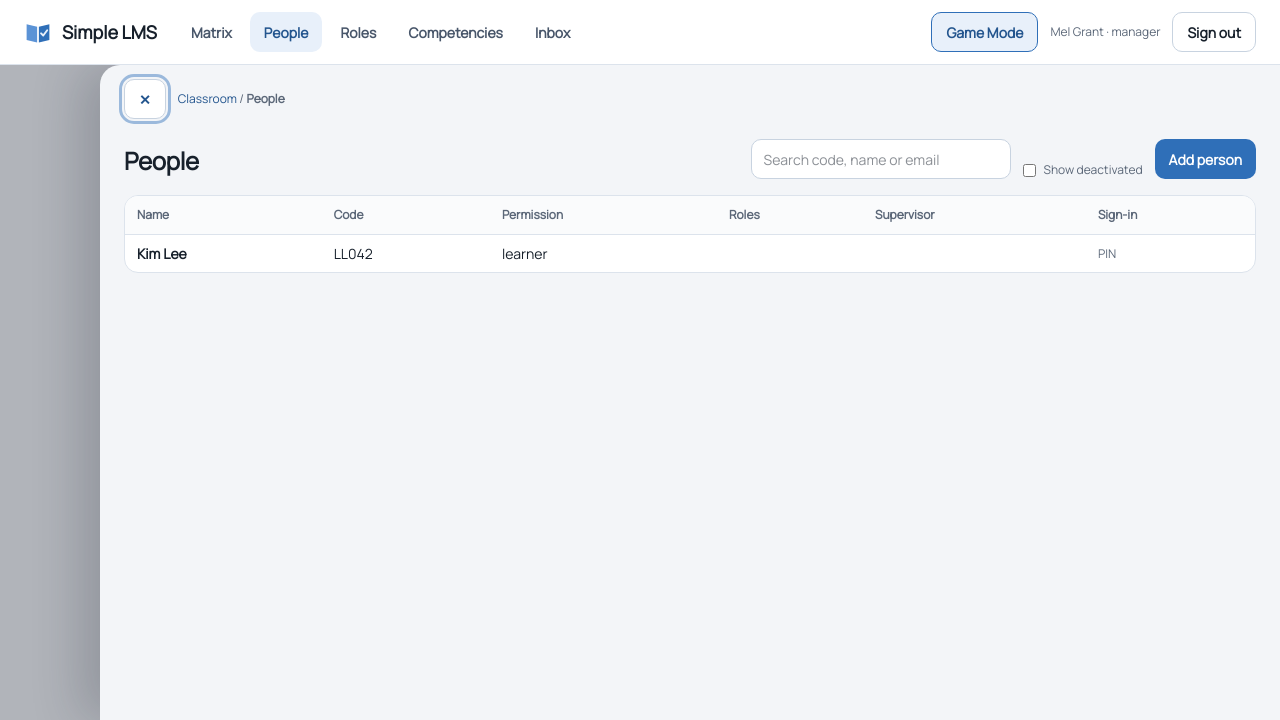
Test case: printing › prints a person's skills card
Click the button "Kim Lee" at (162, 254), box [137,243,187,264]
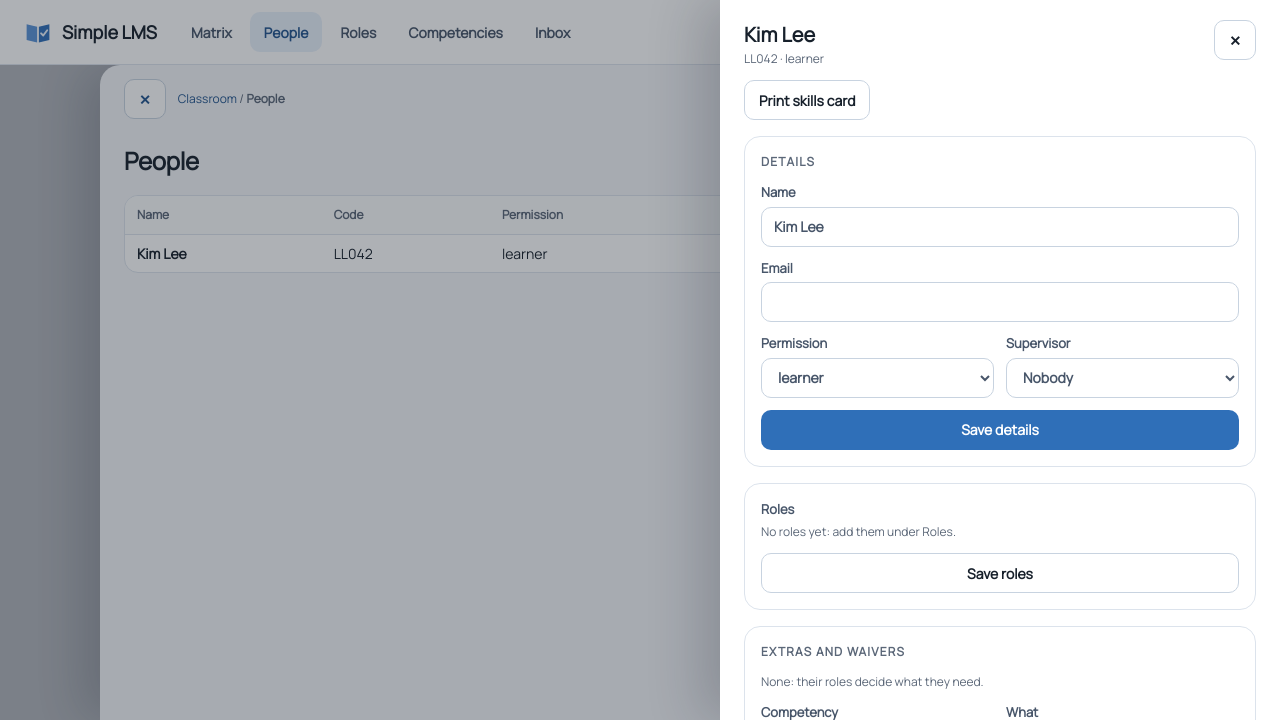
Click the button "Print skills card" at (807, 100), box [744,80,870,120]
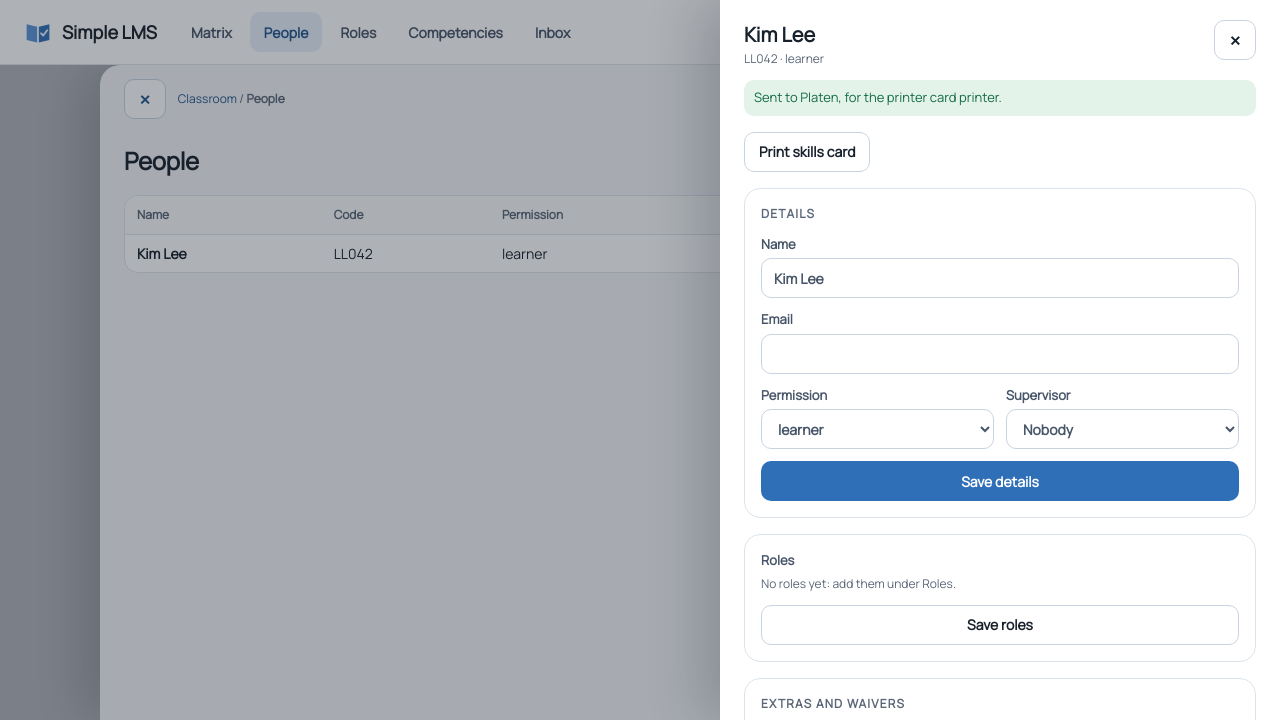
Now the text "Sent to Platen, for the printer card printer." is shown, box [744,80,1256,116]
